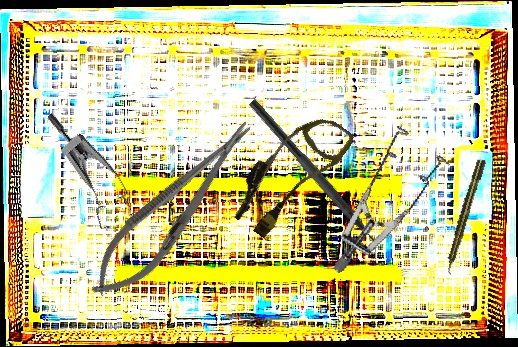Cannula: (223, 98, 357, 249)
Chopper: (237, 98, 393, 266)
Handpiece: (441, 158, 488, 276)
Needle Holder: (75, 106, 271, 314)
Speculum: (291, 113, 472, 275), (13, 112, 154, 239)
